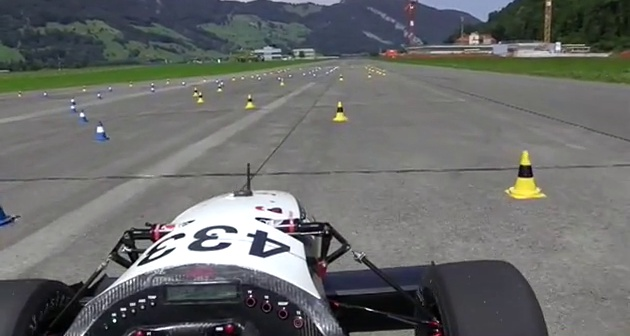Cone: (503, 148, 548, 202), (333, 99, 350, 123), (94, 119, 111, 142), (244, 92, 255, 109), (78, 108, 89, 123), (195, 91, 206, 104)
